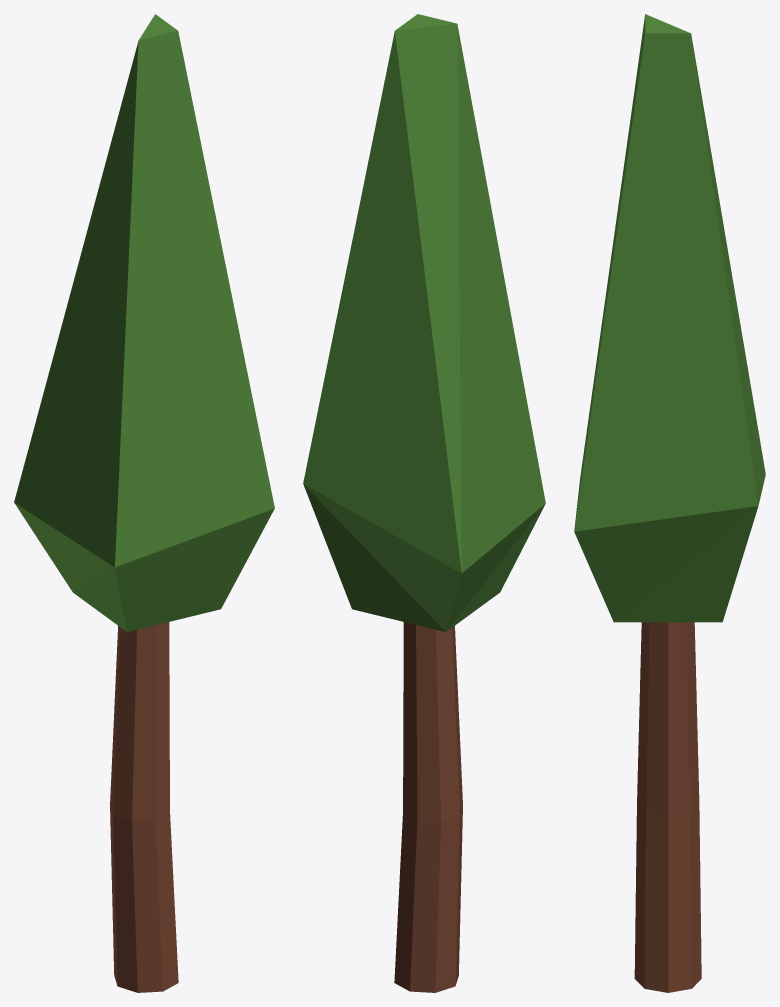
The model's file is Tree_49_summer_vc.fbx.
3 views of the same model, side by side, from view 1: azimuth 30°, elevation 25°; view 2: azimuth 150°, elevation 25°; view 3: azimuth 270°, elevation 25° (orthographic).
Visible parts, largest first — view 1: Tree_49_summer_vc; view 2: Tree_49_summer_vc; view 3: Tree_49_summer_vc.
Boxes of the visible parts, bbox=[...] form: Tree_49_summer_vc: bbox=[14, 14, 274, 992]; Tree_49_summer_vc: bbox=[303, 14, 545, 992]; Tree_49_summer_vc: bbox=[574, 14, 765, 992].
Size of the model in its own units: 47.16 by 259 by 47.16.
